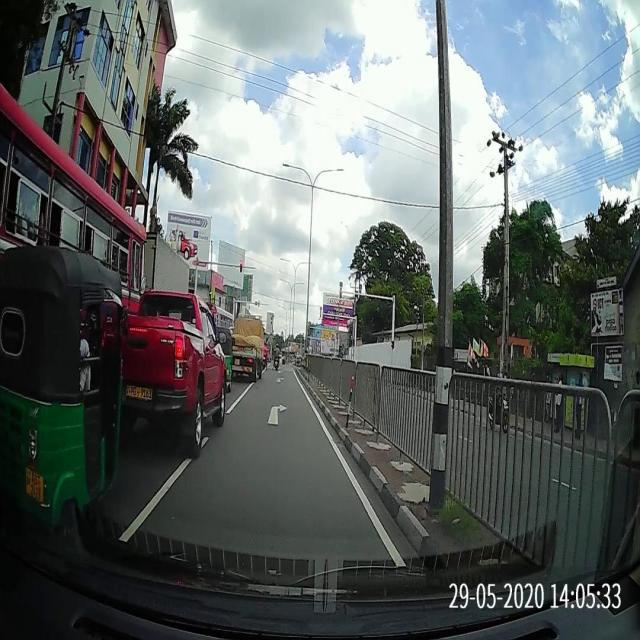Strelka vpravo: (267, 404, 288, 426)
